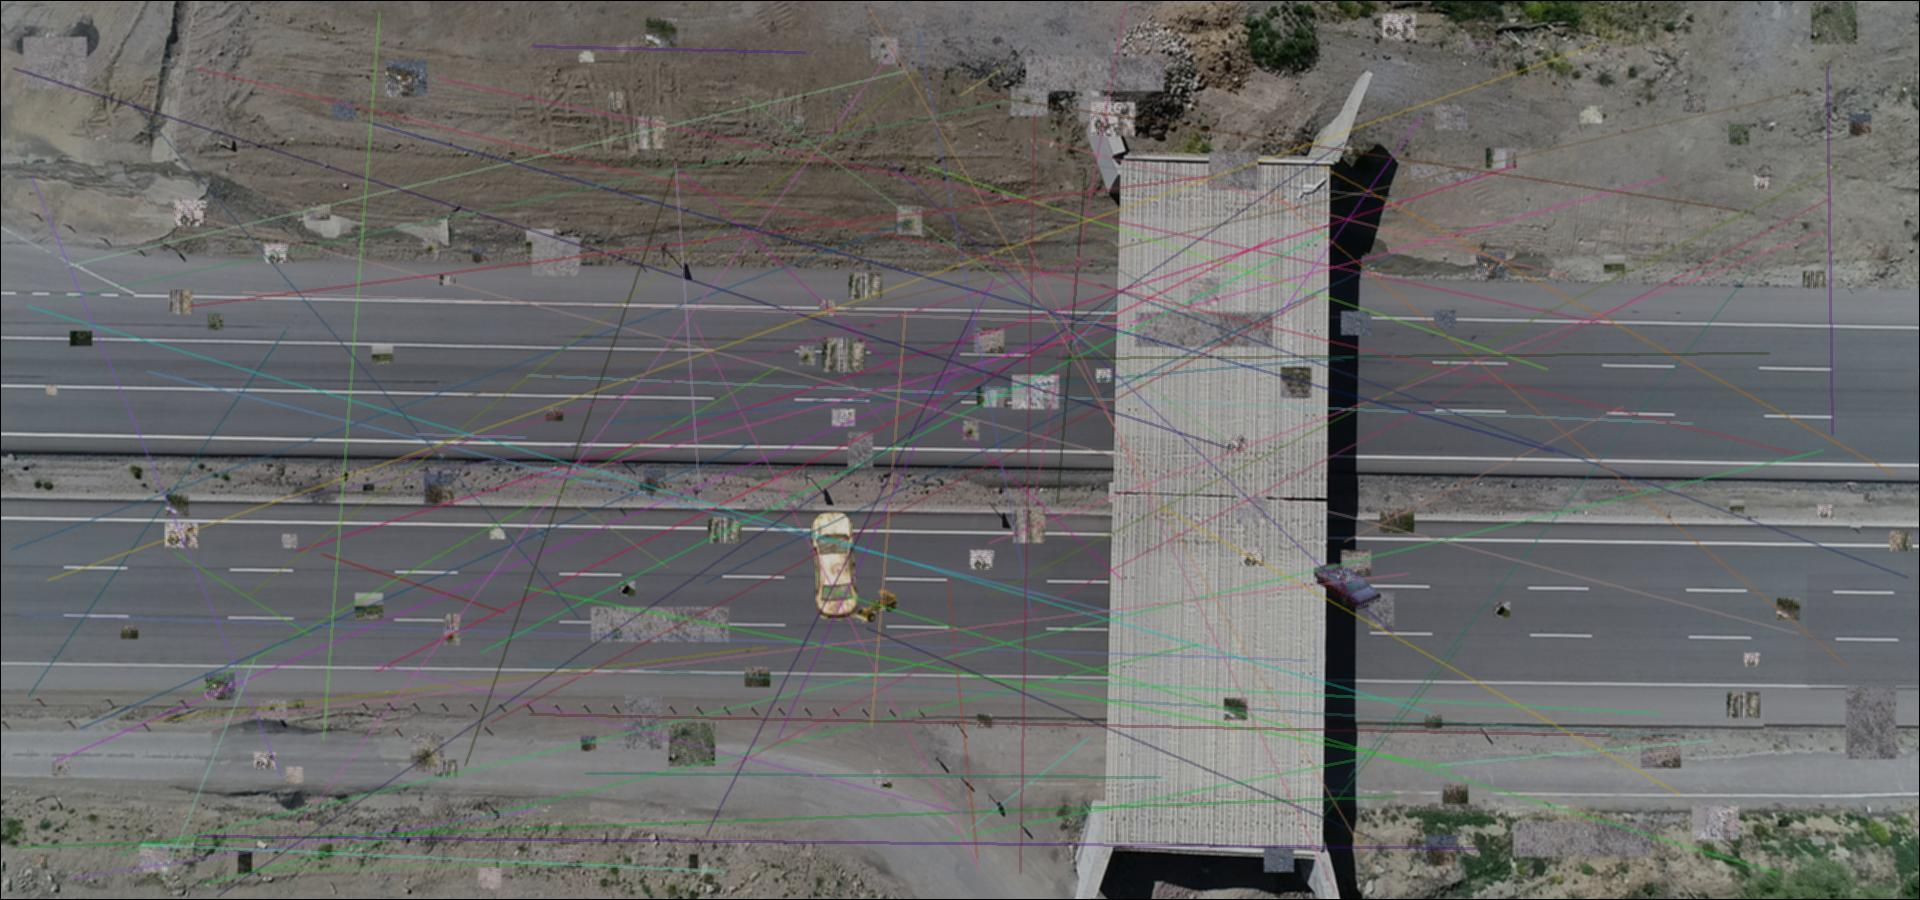arac: (809, 509, 860, 621), (1310, 557, 1384, 610), (852, 588, 901, 624)
